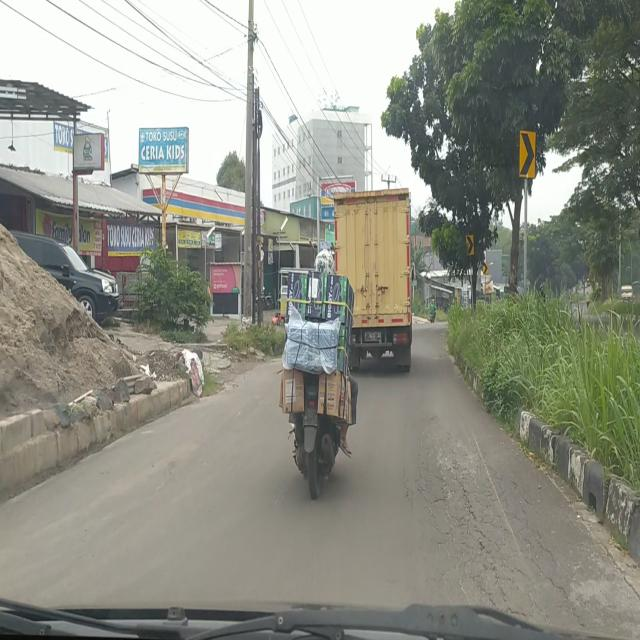Drain Hole: (406, 428, 575, 613)
